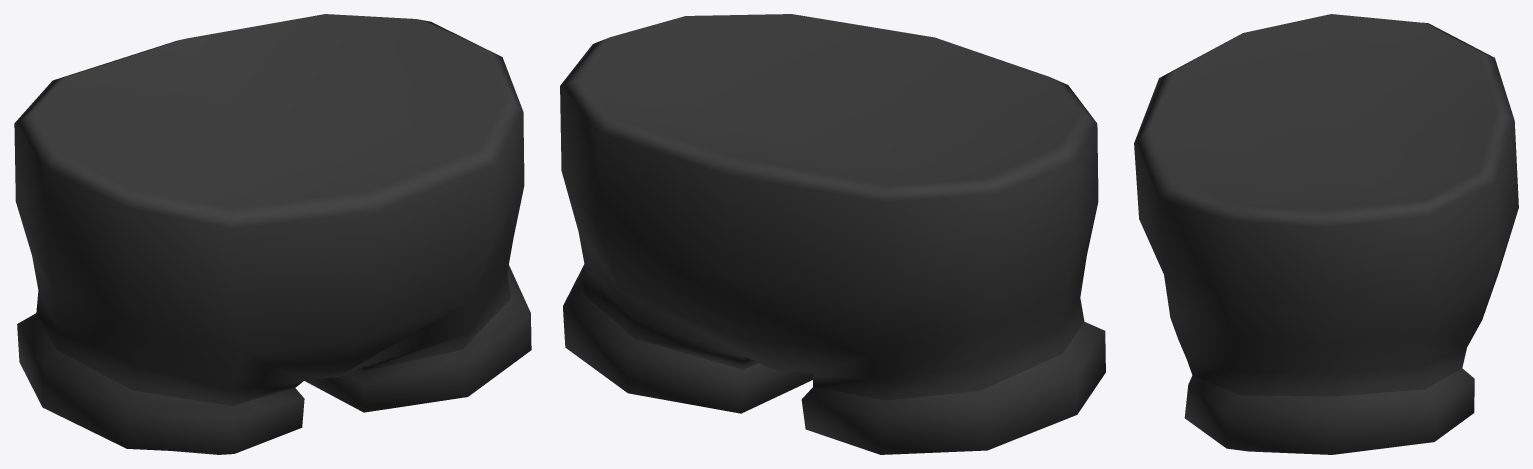
Rendered from Bottom_2.fbx.
3 renders of one model, left to right at view 1: azimuth 30°, elevation 25°; view 2: azimuth 150°, elevation 25°; view 3: azimuth 270°, elevation 25°, orthographic. The views are drawn at different scales.
Parts seen in each view (by area): view 1: Bottom_2; view 2: Bottom_2; view 3: Bottom_2.
Part boxes in pixels (<box>): Bottom_2: <box>14,14,531,454</box>; Bottom_2: <box>560,14,1105,454</box>; Bottom_2: <box>1134,14,1518,454</box>.
Size of the model in its own units: 38.94 by 22.89 by 29.68.
